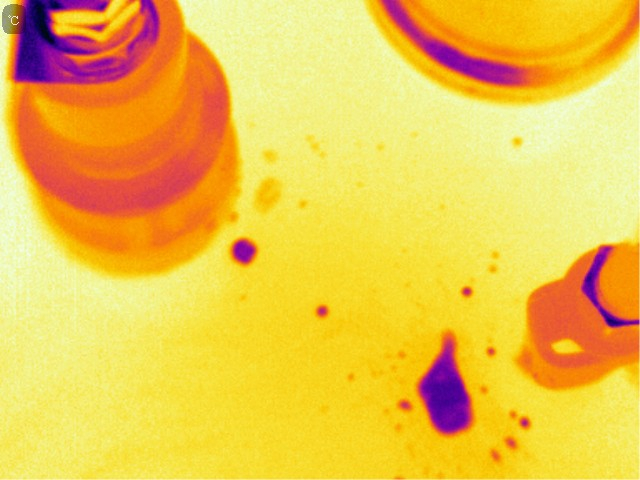Water: (413, 331, 475, 453), (229, 239, 257, 265), (507, 406, 533, 431), (307, 302, 336, 319), (394, 394, 411, 418), (505, 131, 526, 149), (487, 441, 504, 463), (484, 345, 505, 360), (474, 381, 496, 395), (457, 283, 473, 301), (504, 433, 520, 450)
